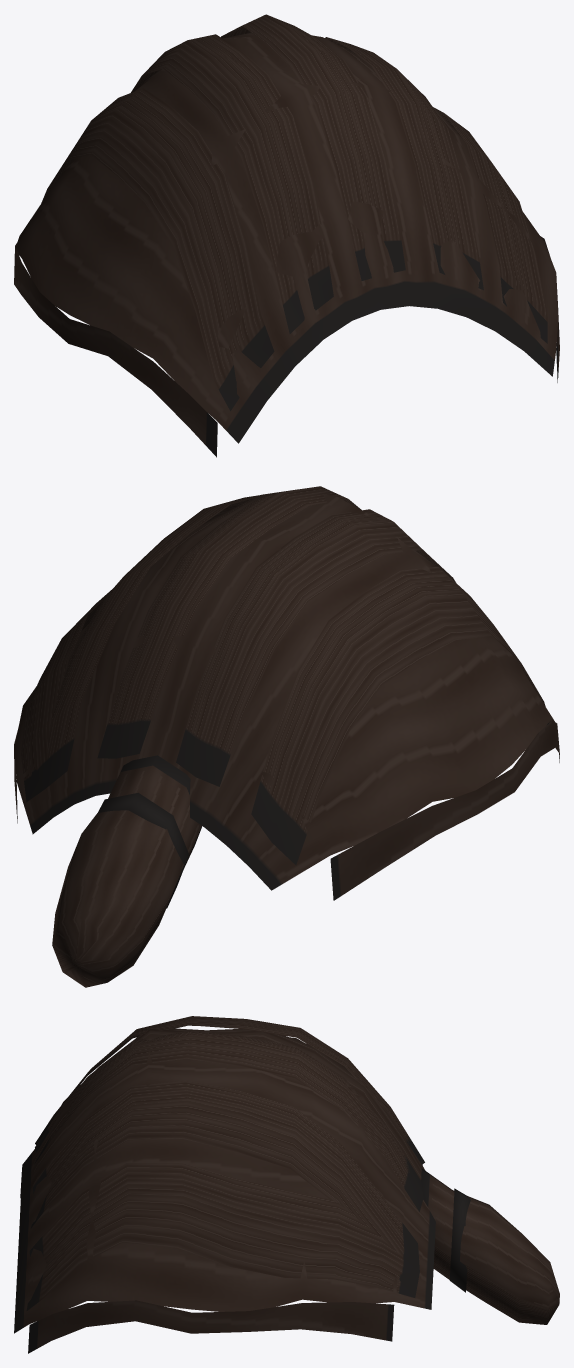
The model's file is hair_short_ponytail_v01.glb.
The picture shows the model from 3 angles, top to bottom: view 1: azimuth 30°, elevation 25°; view 2: azimuth 150°, elevation 25°; view 3: azimuth 270°, elevation 25°; orthographic projection. The views are drawn at different scales.
Visible parts, largest first — view 1: hair_short_ponytail_v01; view 2: hair_short_ponytail_v01; view 3: hair_short_ponytail_v01.
Part boxes in pixels (<box>): hair_short_ponytail_v01: <box>14,14,559,457</box>; hair_short_ponytail_v01: <box>14,486,559,987</box>; hair_short_ponytail_v01: <box>14,1016,559,1353</box>.
Size of the model in its own units: 0.2352 by 0.1722 by 0.2903.
1 material, 1 textured.
